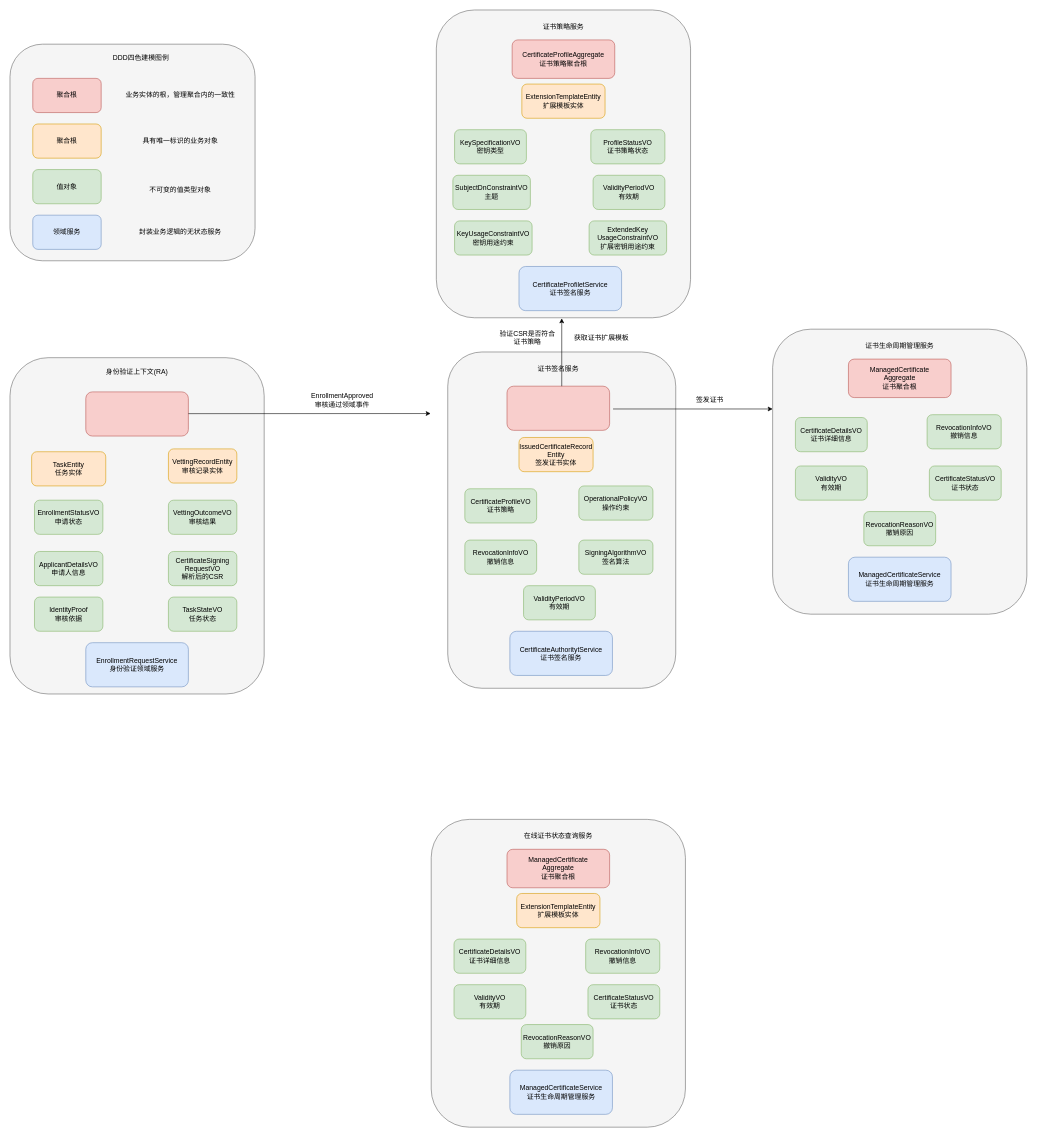
The diagram is 1037 pixels wide and 1137 high, and some of its shapes have lost their labels. The centre of each missing label's shape, as x and y in pixels:
"CertificateAuthorityAggregate 证书签名聚合根" belongs at point 558,408.
"EnrollmentRequestAggregate 核验请求聚合根" belongs at point 136,413.
